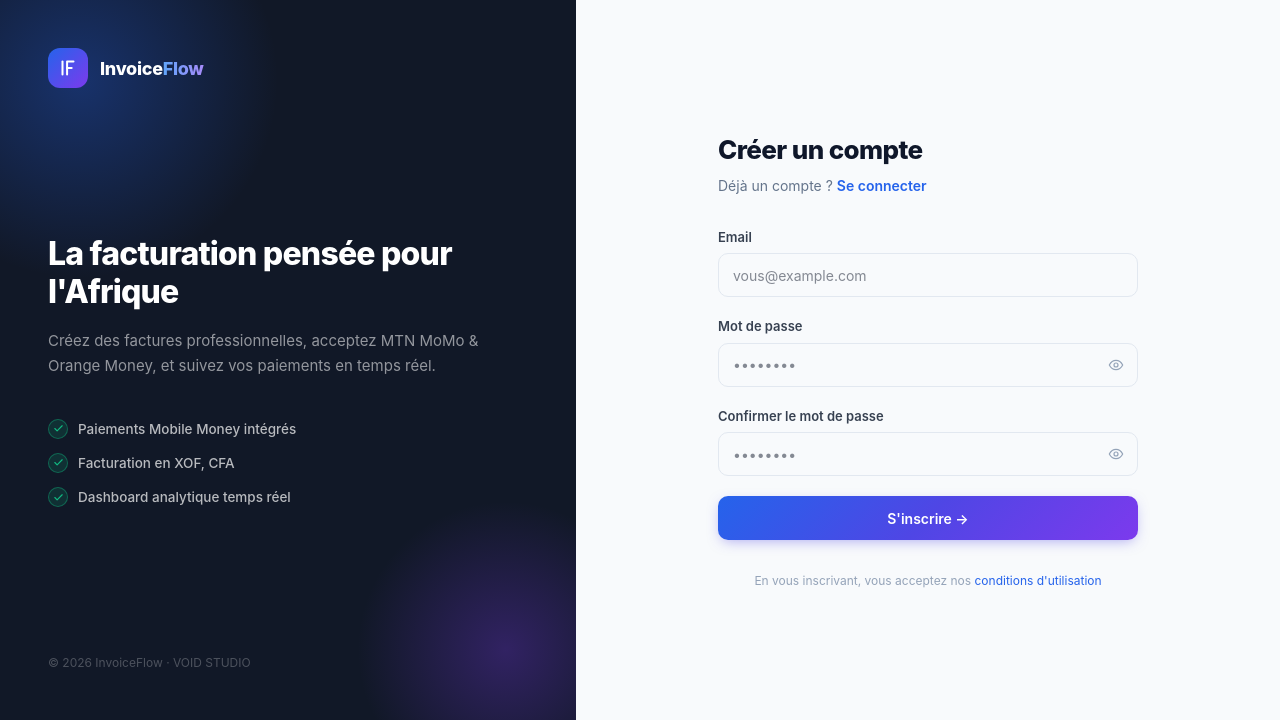
it: RegisterPage › affiche une erreur quand les mots de passe ne correspondent pas
Type "user@example.com" into the field with placeholder "vous@example.com". click: (928, 275)
box: [718, 253, 1138, 297]
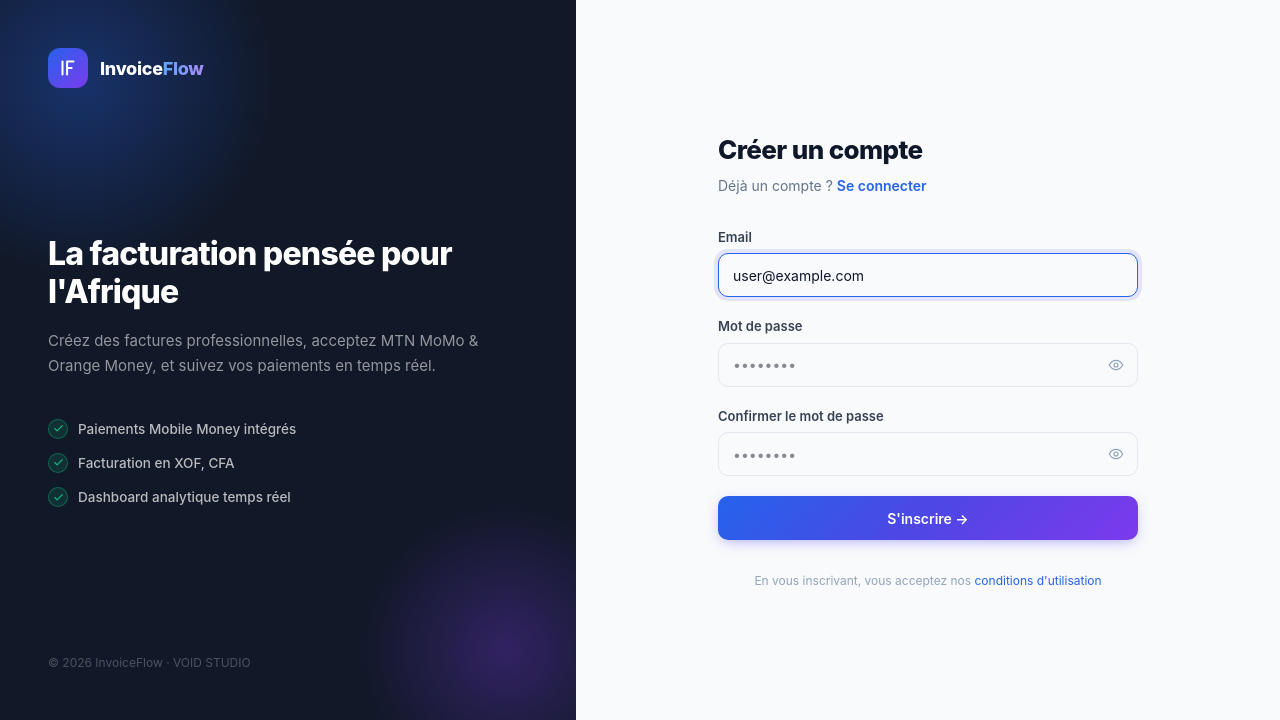
Type "motdepasse1" into the 1st password field with placeholder "••••••••". click: (928, 365)
box: [718, 343, 1138, 387]
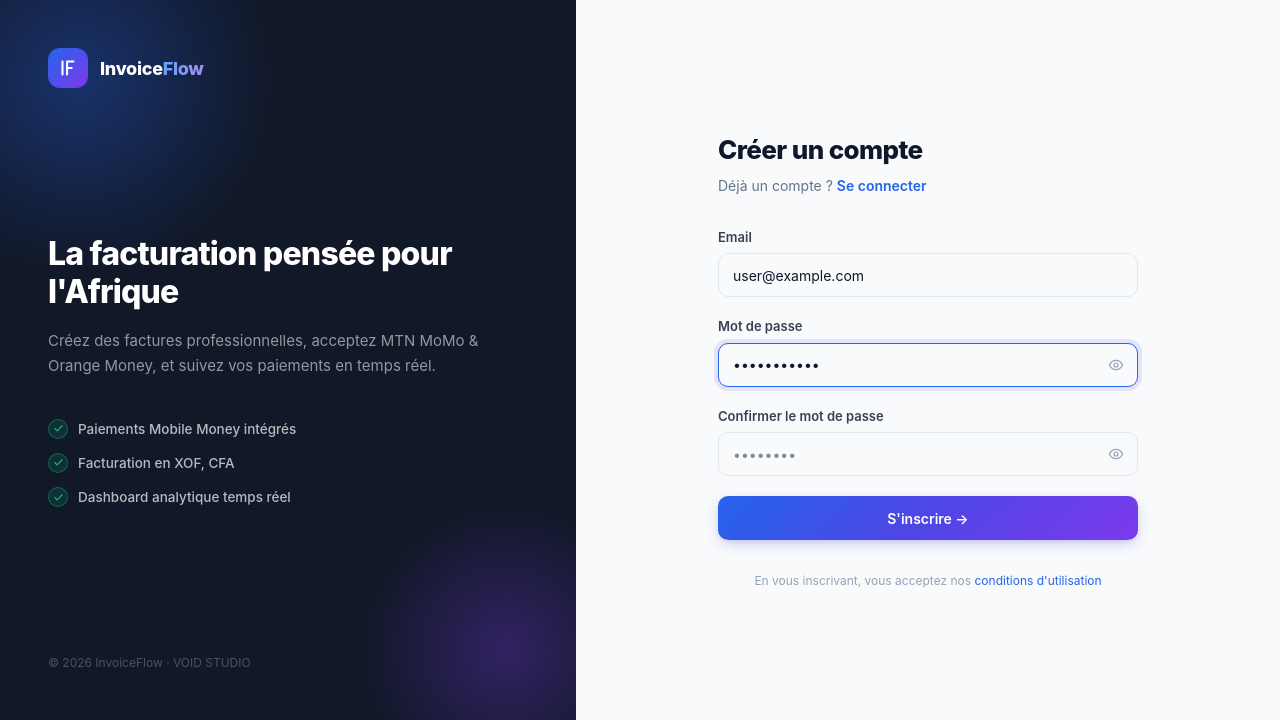
Type "motdepasse-different" into the password field with placeholder "••••••••". click: (928, 454)
box: [718, 432, 1138, 476]
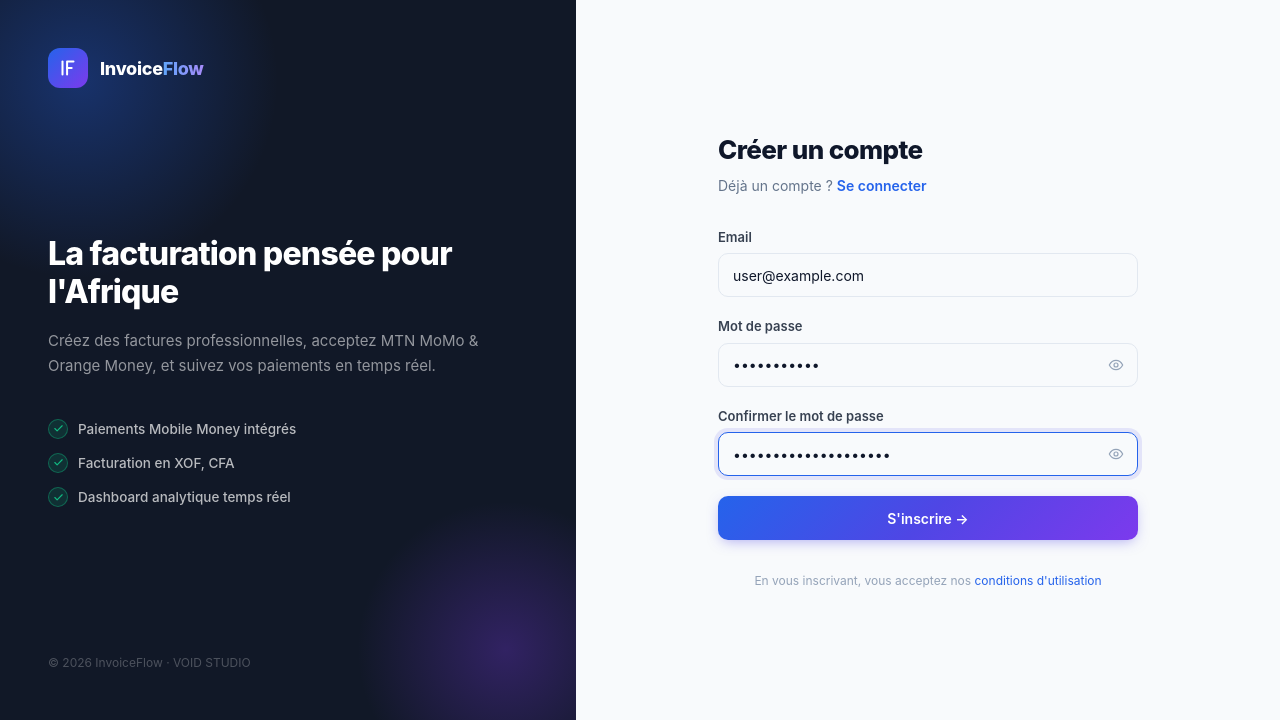
Click the button "S'inscrire →". click: (928, 518)
box: [718, 496, 1138, 540]
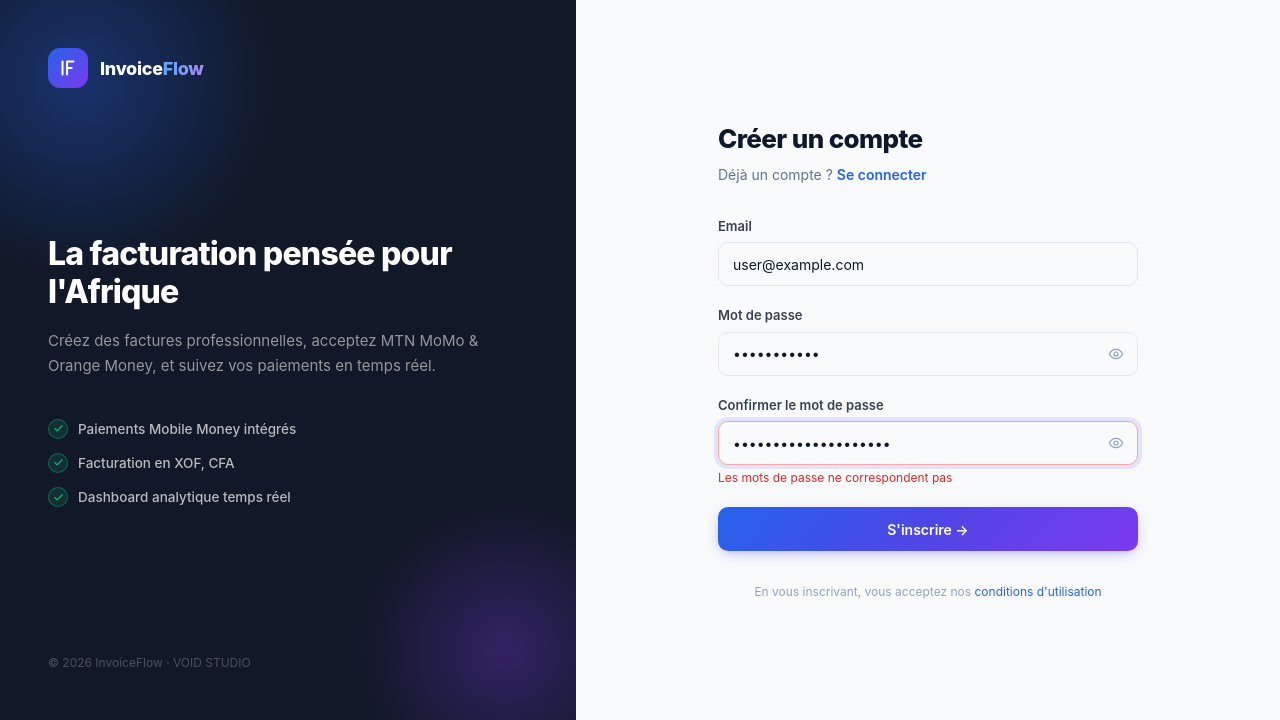
Check: the text "Les mots de passe ne correspondent pas" is shown, box [718, 470, 952, 485]
